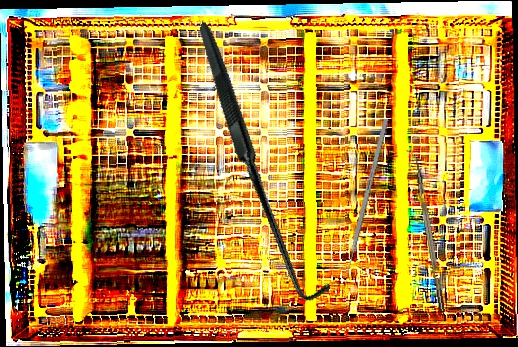Chopper: (406, 147, 445, 314)
Hook Surgical: (124, 20, 402, 307)
Pusher: (342, 118, 389, 284)
